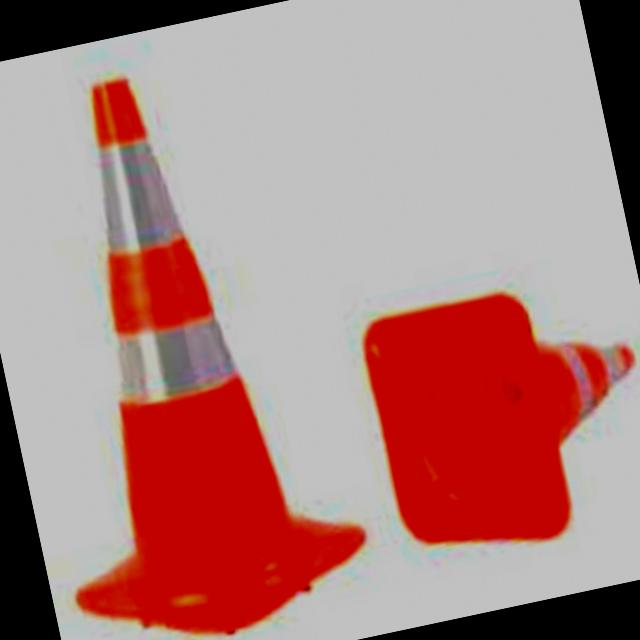cone: (0, 41, 371, 640), (339, 259, 640, 576)
